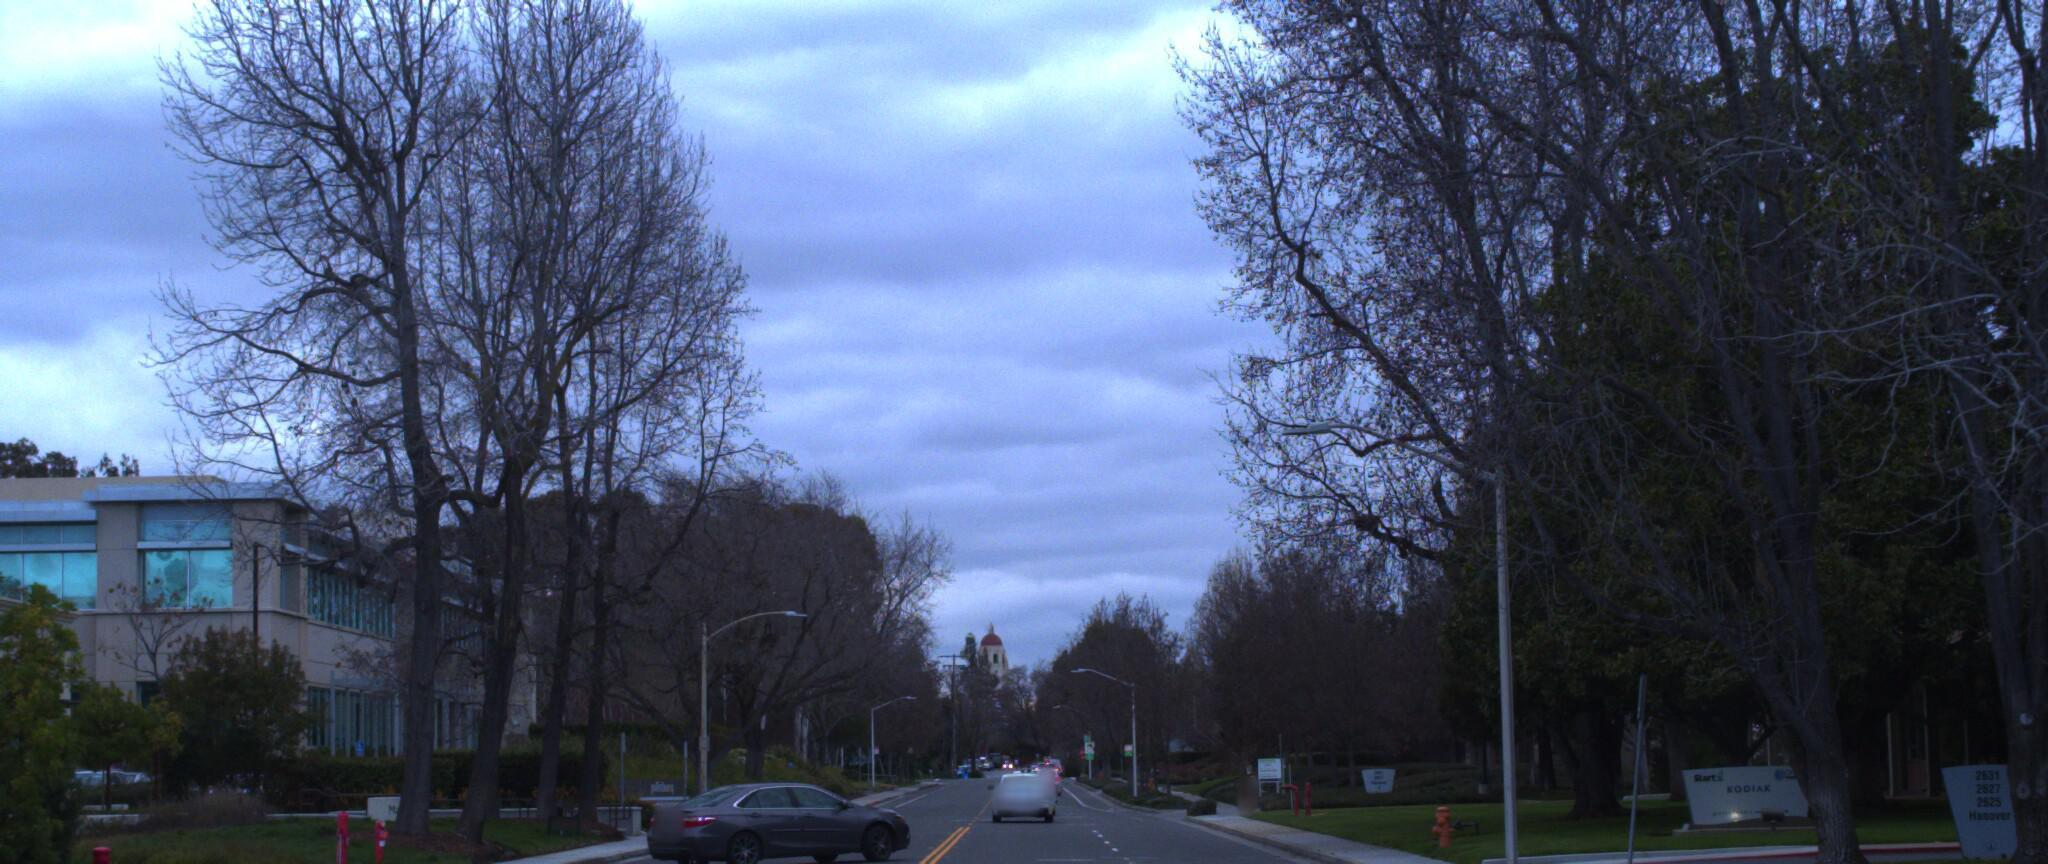car: (639, 775, 926, 859)
